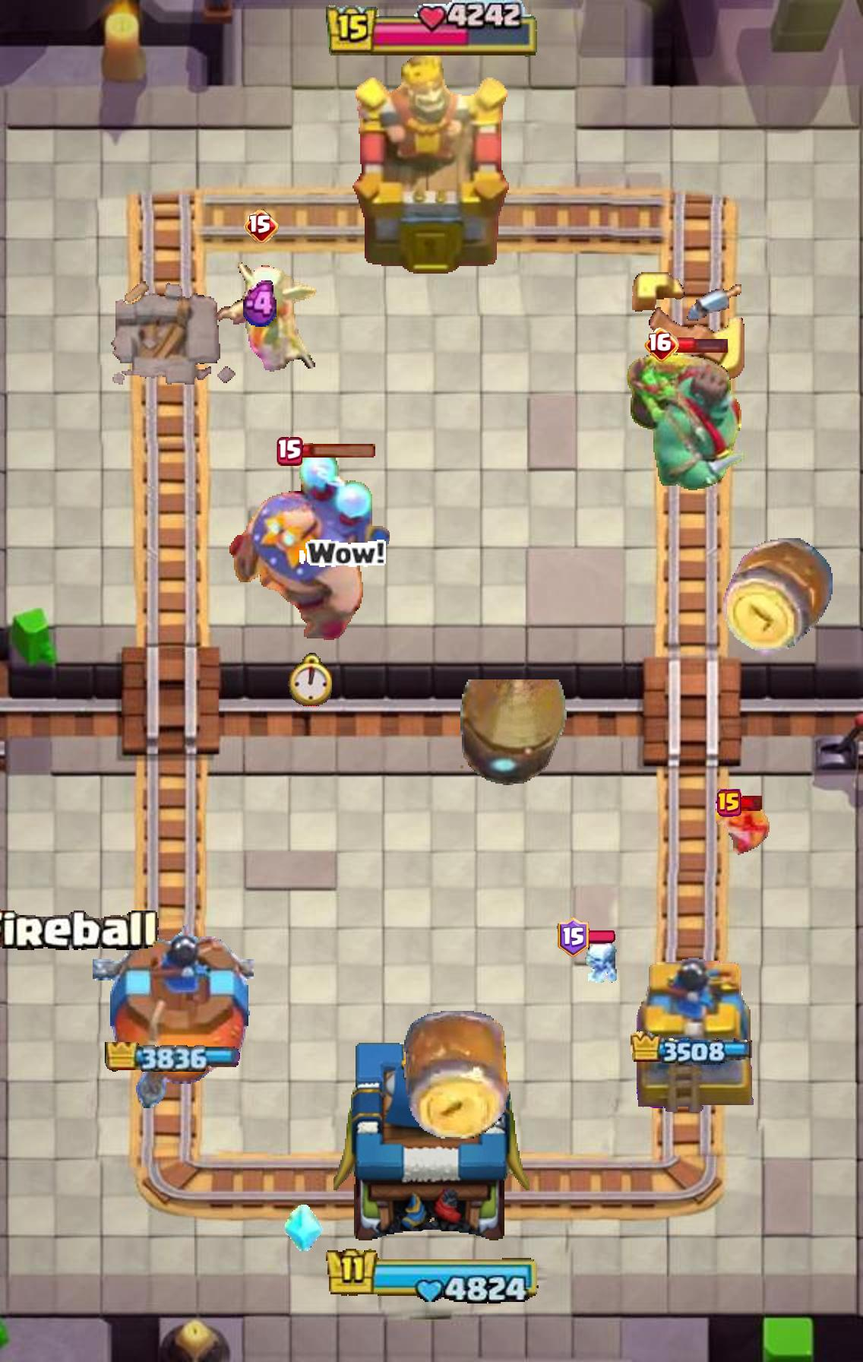bar: (300, 443, 379, 460), (675, 337, 729, 353), (738, 795, 764, 812), (585, 930, 615, 944)
bar-level: (556, 917, 589, 957), (244, 209, 279, 244), (644, 328, 679, 362), (277, 436, 304, 467), (716, 789, 743, 817)
